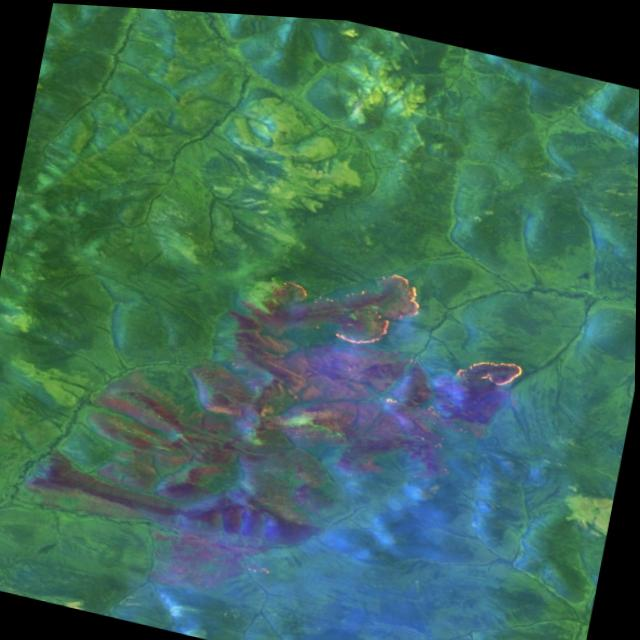fire: (250, 234, 433, 355), (449, 335, 540, 395)
